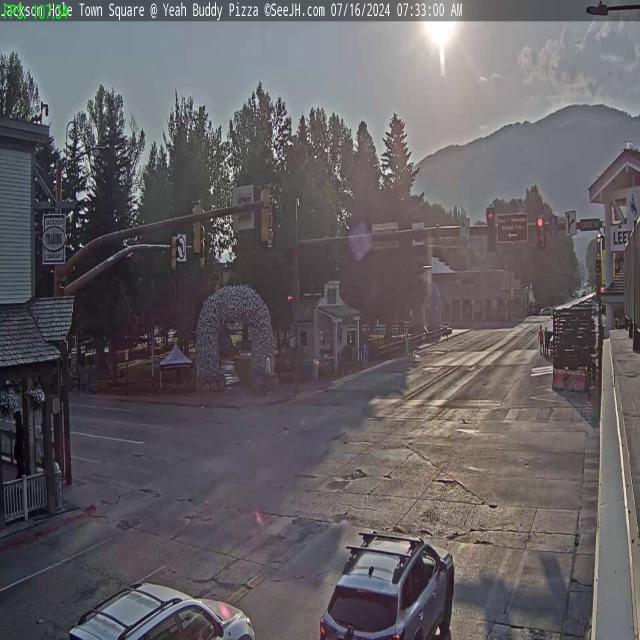person: (538, 324, 544, 356), (544, 325, 549, 357)
suv: (318, 528, 457, 640), (64, 578, 264, 640)
traffic light: (260, 184, 274, 245), (190, 200, 203, 257), (486, 208, 496, 255), (170, 234, 179, 275), (536, 214, 544, 249)
